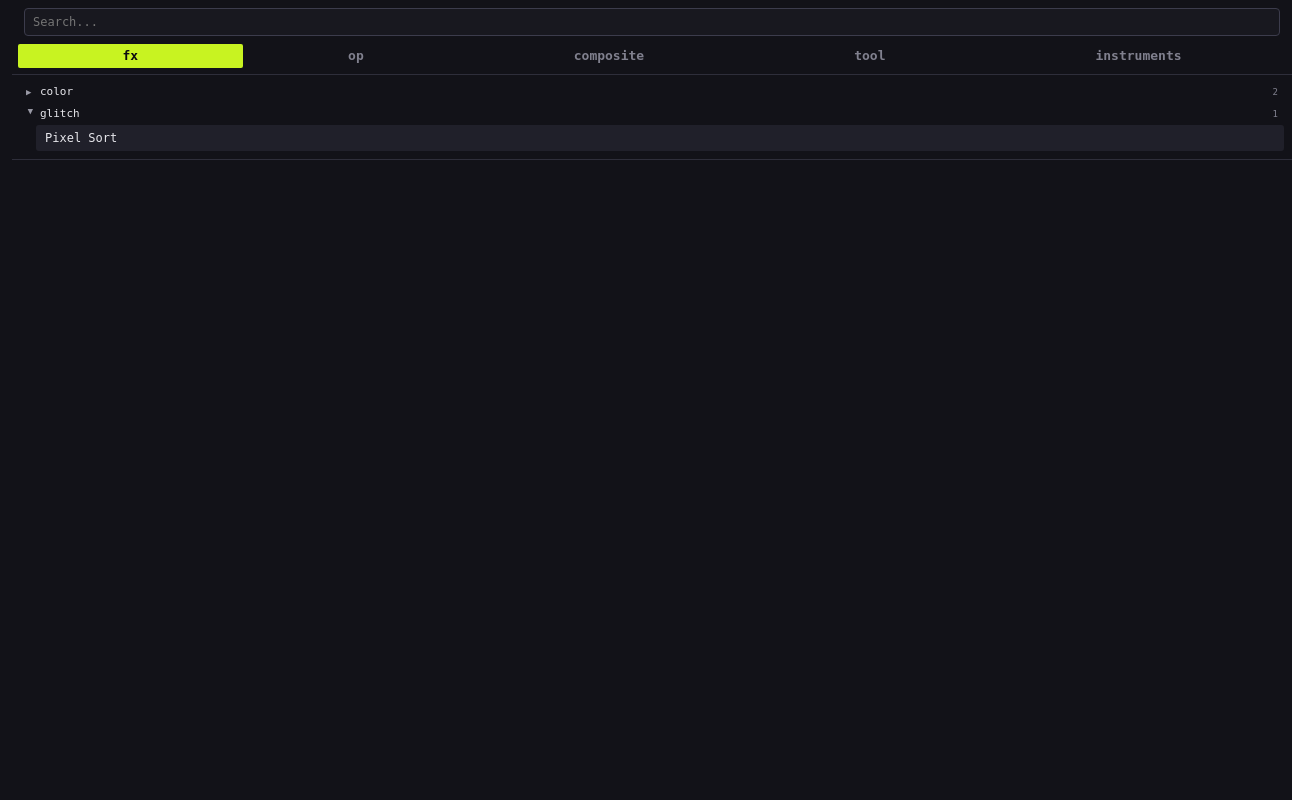
Test: P3.2 — [tool] tab › tab switch to tool shows cursor tool entries
Click the tab with test id "browser-tab-tool" at {"x": 870, "y": 56}, box x1=750 y1=44 x2=990 y2=68
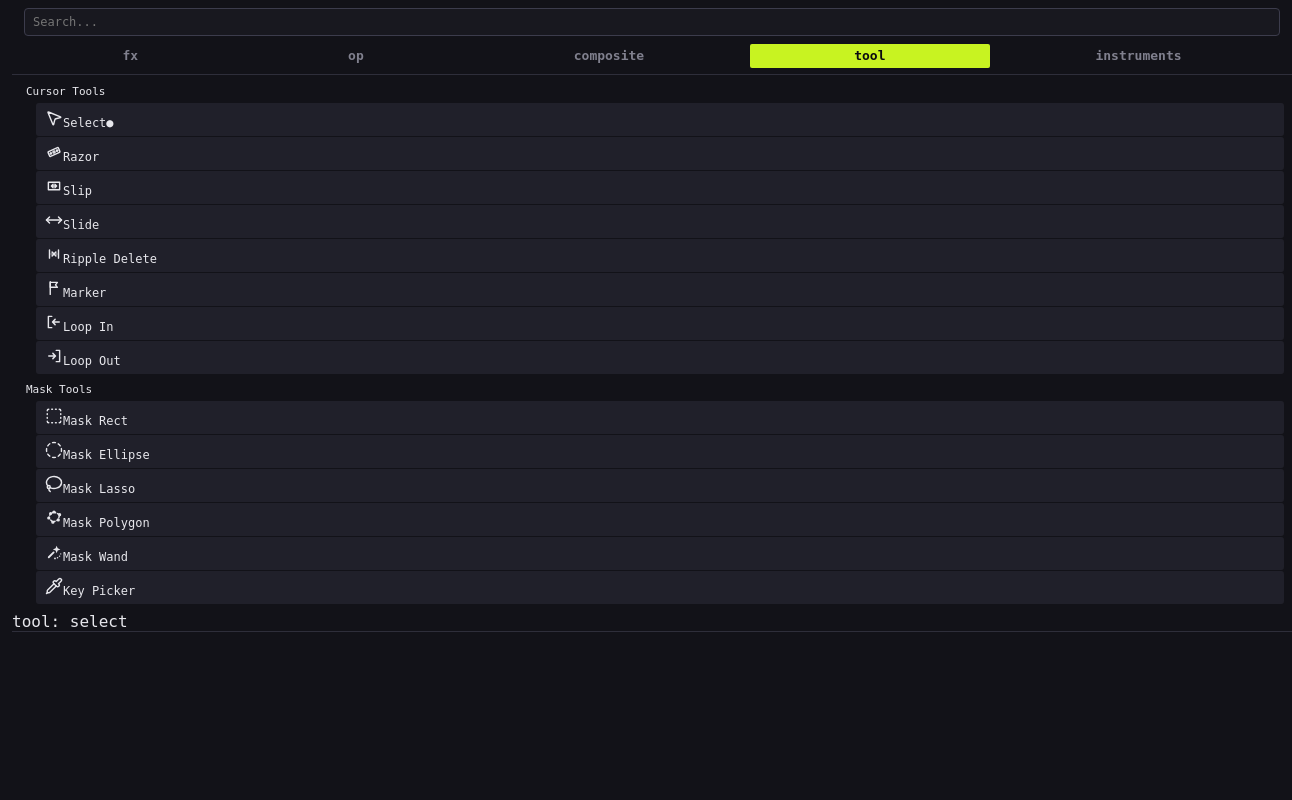
expect the element with test id "tool-tab-content" is shown: met
expect the text "tool: select" is shown: met, box x1=12 y1=612 x2=128 y2=631
expect the text with test id "tool-mode-chip" shows "select": met, box x1=70 y1=612 x2=128 y2=631
